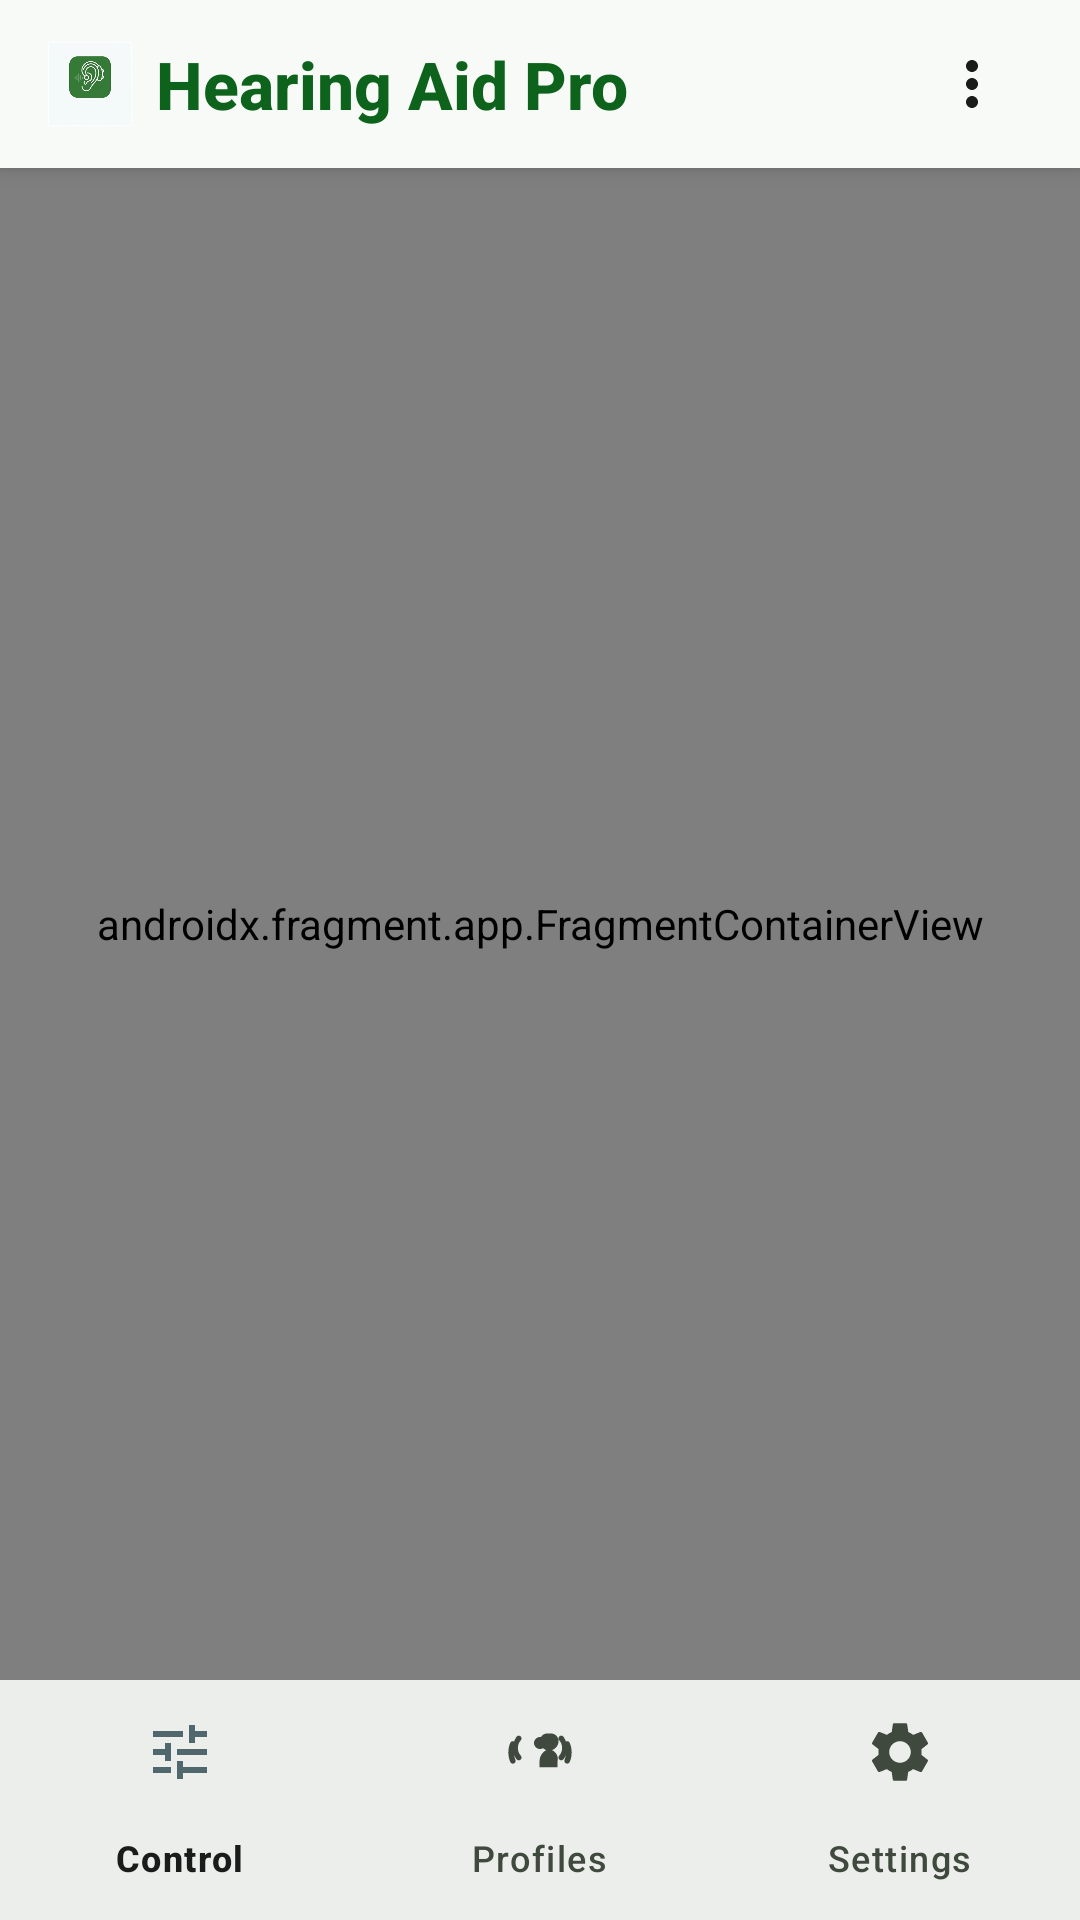

Where icons sit on this 1080px×1920px app screen, as (x1, y1, x2, y2):
more vert: (966, 60, 978, 108)
